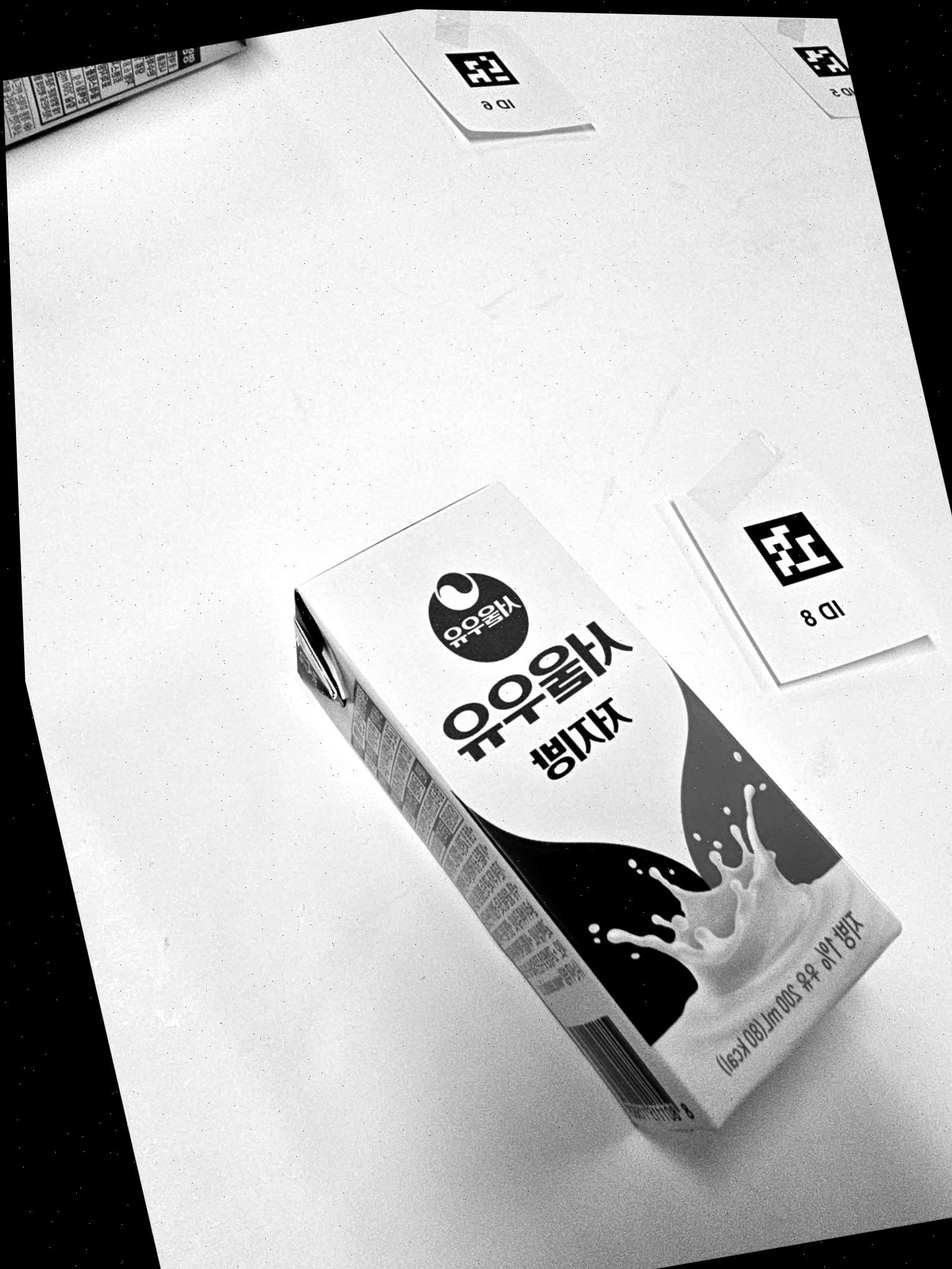milk_blue: (293, 480, 906, 1132)
